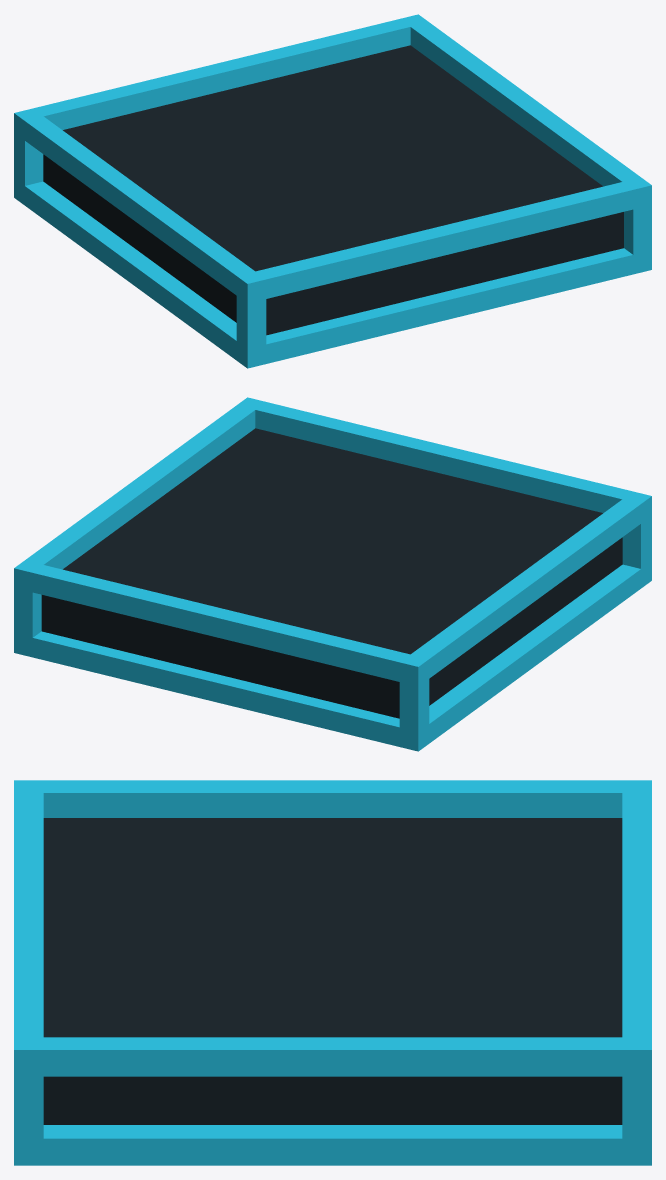
The model's file is CodingBlock.fbx.
3 renders of one model, top to bottom at view 1: azimuth 30°, elevation 25°; view 2: azimuth 150°, elevation 25°; view 3: azimuth 270°, elevation 25°, orthographic. The views are drawn at different scales.
Visible parts, largest first — view 1: Cube; view 2: Cube; view 3: Cube.
Part boxes in pixels (<box>): Cube: <box>14,14,651,368</box>; Cube: <box>14,397,651,751</box>; Cube: <box>14,780,651,1165</box>.
Size of the model in its own units: 1 by 1 by 0.2.
